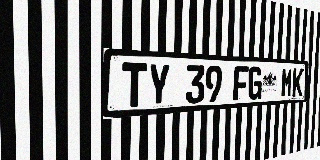3: (186, 65, 205, 104)
9: (205, 65, 223, 103)
F: (233, 66, 248, 101)
G: (248, 67, 262, 100)
K: (292, 68, 303, 97)
M: (281, 68, 293, 98)
T: (122, 62, 147, 108)
Y: (147, 63, 170, 106)
